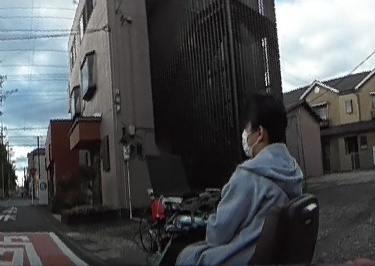person: (175, 98, 302, 266)
